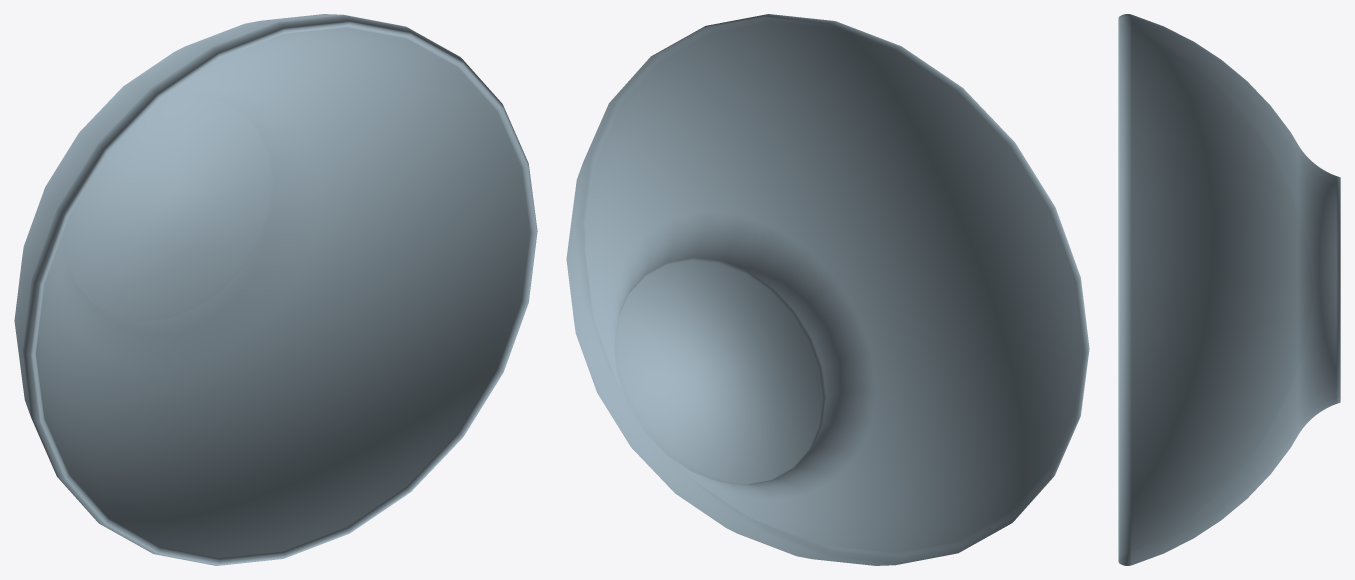
Rendered from model_align.obj.
The picture shows the model from 3 angles, left to right: view 1: azimuth 30°, elevation 25°; view 2: azimuth 150°, elevation 25°; view 3: azimuth 270°, elevation 25°; orthographic projection. The views are drawn at different scales.
Parts seen in each view (by area): view 1: mesh1_mesh1-geometry; view 2: mesh1_mesh1-geometry; view 3: mesh1_mesh1-geometry.
Boxes of the visible parts, x1,y1,x2,y2 form: mesh1_mesh1-geometry: (14, 14, 537, 565); mesh1_mesh1-geometry: (566, 14, 1089, 565); mesh1_mesh1-geometry: (1118, 14, 1340, 565).
Bounding box in the file's own units: 0.1651 × 0.1651 × 0.0662.
